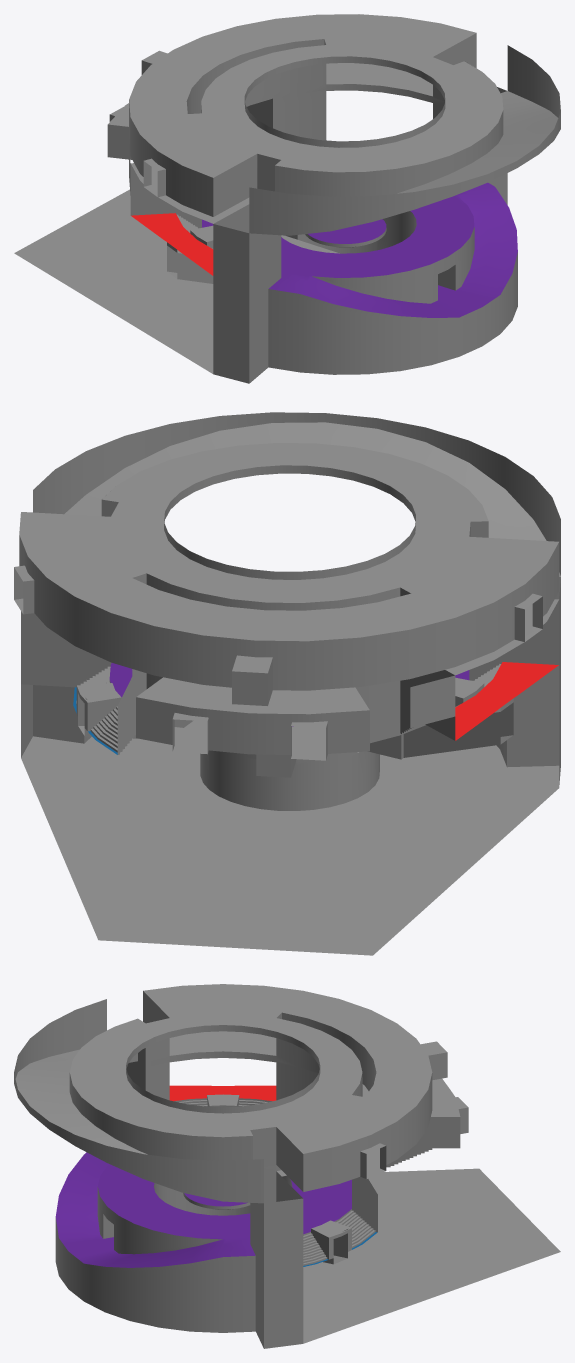
The model's file is Level_00_A.fbx.
The picture shows the model from 3 angles, top to bottom: view 1: azimuth 30°, elevation 25°; view 2: azimuth 150°, elevation 25°; view 3: azimuth 270°, elevation 25°; orthographic projection. The views are drawn at different scales.
Parts seen in each view (by area): view 1: Geom_Level_00_A_LOD00; view 2: Geom_Level_00_A_LOD00; view 3: Geom_Level_00_A_LOD00.
Part boxes in pixels (<box>): Geom_Level_00_A_LOD00: <box>14,14,560,383</box>; Geom_Level_00_A_LOD00: <box>14,412,560,955</box>; Geom_Level_00_A_LOD00: <box>14,984,560,1348</box>.
Size of what is drawn, in the model's own units: 6175 by 7841 by 3103.
